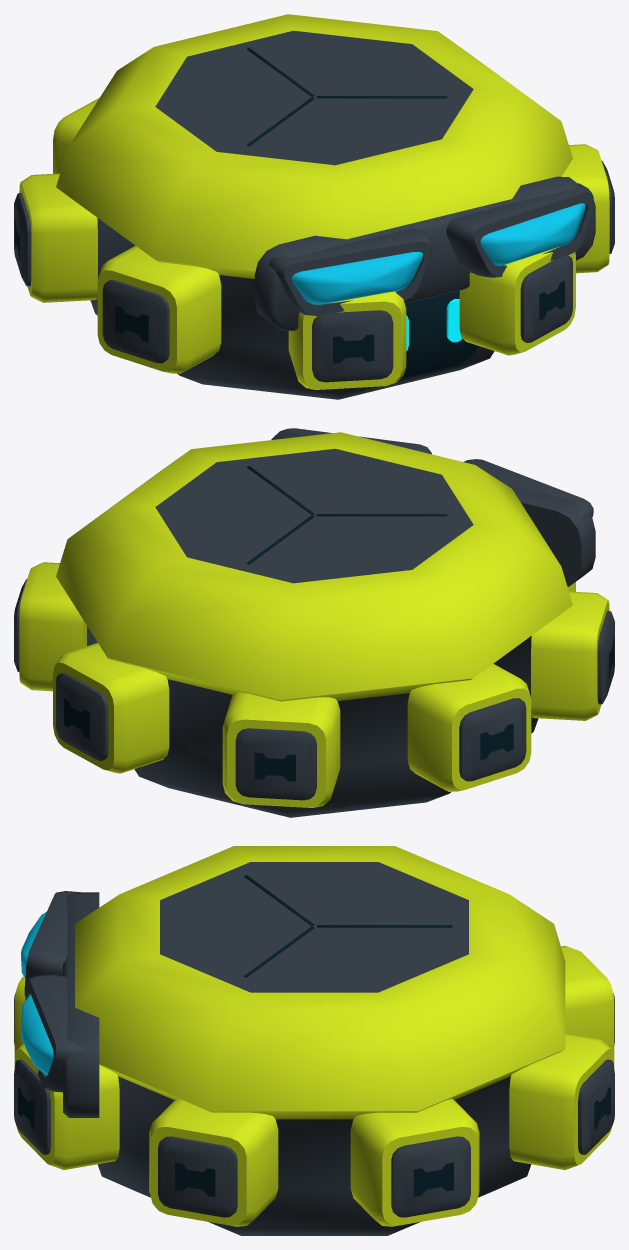
Rendered from copilot_linter_v01.glb.
The picture shows the model from 3 angles, top to bottom: view 1: azimuth 30°, elevation 25°; view 2: azimuth 150°, elevation 25°; view 3: azimuth 270°, elevation 25°; orthographic projection. The views are drawn at different scales.
Visible parts, largest first — view 1: linter_agent_model; view 2: linter_agent_model; view 3: linter_agent_model.
Part boxes in pixels (x1,y1,x2,y2): linter_agent_model: (14, 14, 614, 399); linter_agent_model: (14, 428, 614, 817); linter_agent_model: (14, 846, 614, 1235).
Bounding box in the file's own units: 2.48 × 1.08 × 2.48.
Materials: 2 (2 with a texture image).
